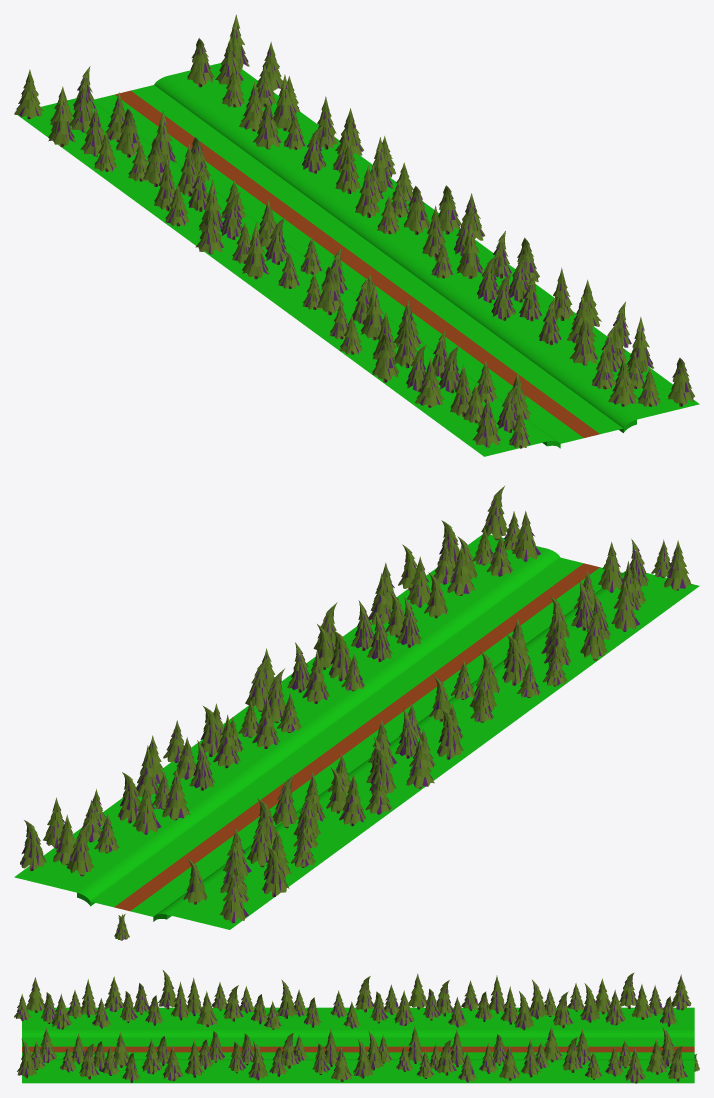
The model's file is cami.glb.
3 renders of one model, top to bottom at view 1: azimuth 30°, elevation 25°; view 2: azimuth 150°, elevation 25°; view 3: azimuth 270°, elevation 25°, orthographic. The views are drawn at different scales.
Visible parts, largest first — view 1: bosc.E, herba.E.002, rampaBosc.E, terra, Resource_PineTree_Group.007 (×7), Resource_PineTree_Group.004 (×5), Resource_PineTree_Group.003 (×4), Resource_PineTree_Group.006 (×3), Resource_PineTree_Group.005 (×2); view 2: bosc.E, herba.E.002, rampaBosc.E, terra, Resource_PineTree_Group.004 (×6), Resource_PineTree_Group.007 (×5), Resource_PineTree_Group.003 (×4), Resource_PineTree_Group.006 (×4), Resource_PineTree_Group.005 (×4); view 3: bosc.E, rampaBosc.E, herba.E.002, Resource_PineTree_Group.007 (×10), Resource_PineTree_Group.004 (×10), Resource_PineTree_Group.006 (×10), Resource_PineTree_Group.003 (×10), Resource_PineTree_Group.005 (×10), Resource_PineTree_Group.002 (×10), Resource_PineTree_Group.009 (×10), Resource_PineTree_Group (×10), terra (+2 smaller).
Boxes of the visible parts, x1,y1,x2,y2 form: bosc.E: (17, 63, 699, 456); herba.E.002: (93, 85, 623, 443); rampaBosc.E: (92, 76, 636, 448); terra: (115, 90, 599, 437); Resource_PineTree_Group.007 (×7): (116, 38, 694, 406); Resource_PineTree_Group.004 (×5): (48, 74, 483, 340); Resource_PineTree_Group.003 (×4): (195, 99, 598, 447); Resource_PineTree_Group.006 (×3): (14, 69, 637, 407); Resource_PineTree_Group.005 (×2): (335, 140, 379, 217); bosc.E: (14, 534, 699, 929); herba.E.002: (91, 557, 622, 916); rampaBosc.E: (77, 548, 625, 921); terra: (114, 563, 599, 911); Resource_PineTree_Group.004 (×6): (20, 630, 525, 896); Resource_PineTree_Group.007 (×5): (66, 486, 607, 876); Resource_PineTree_Group.003 (×4): (162, 540, 691, 820); Resource_PineTree_Group.006 (×4): (133, 511, 639, 922); Resource_PineTree_Group.005 (×4): (213, 650, 366, 826); bosc.E: (22, 1007, 694, 1083); rampaBosc.E: (22, 1029, 694, 1061); herba.E.002: (22, 1038, 694, 1059); Resource_PineTree_Group.007 (×10): (17, 970, 675, 1080); Resource_PineTree_Group.004 (×10): (79, 972, 687, 1081); Resource_PineTree_Group.006 (×10): (40, 974, 691, 1083); Resource_PineTree_Group.003 (×10): (26, 973, 667, 1081); Resource_PineTree_Group.005 (×10): (81, 975, 540, 1077); Resource_PineTree_Group.002 (×10): (41, 983, 506, 1074); Resource_PineTree_Group.009 (×10): (71, 980, 663, 1082); Resource_PineTree_Group (×10): (94, 991, 677, 1082); terra: (22, 1046, 694, 1052).
Size of the model in its own units: 88.07 by 31.68 by 306.
